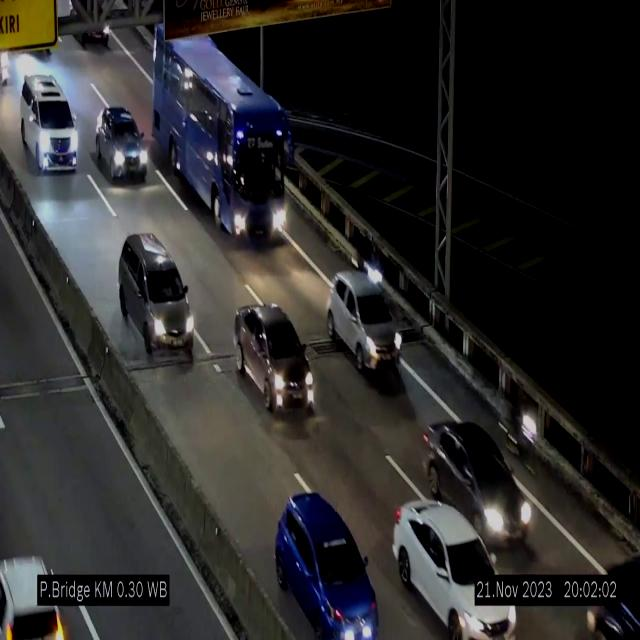Bus: (152, 21, 290, 242)
Car: (386, 492, 516, 640), (271, 487, 381, 640), (420, 415, 532, 556), (233, 302, 320, 419), (119, 234, 194, 362), (328, 270, 404, 372), (0, 547, 74, 640), (20, 74, 79, 172), (583, 543, 640, 640), (96, 106, 148, 184)
Motorcycle: (353, 222, 382, 294), (518, 397, 540, 462)
